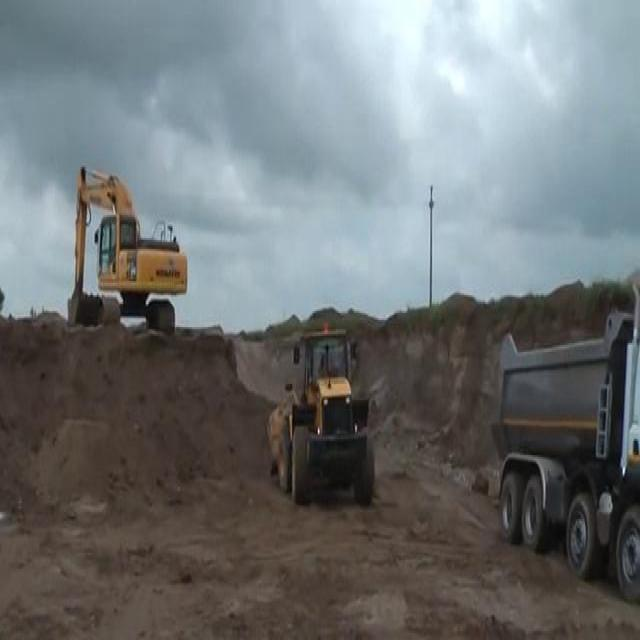Dump Truck: (489, 281, 639, 604)
Excavator: (67, 165, 187, 332)
Loader: (265, 320, 374, 508)
